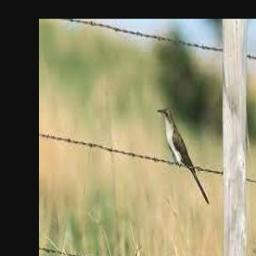Cuckoo: (156, 107, 209, 205)
